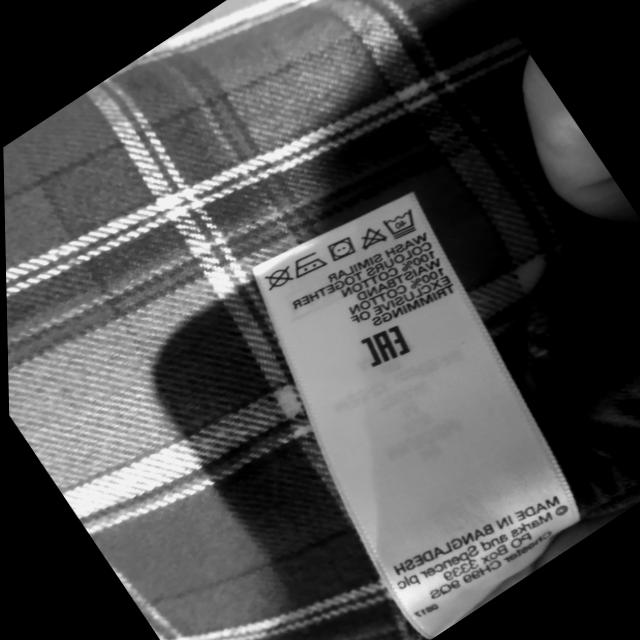40C: (385, 210, 419, 239)
DN_bleach: (362, 227, 387, 250)
DN_dry_clean: (267, 264, 292, 293)
iron_medium: (294, 252, 328, 277)
tumble_dry_medium: (329, 237, 357, 262)
